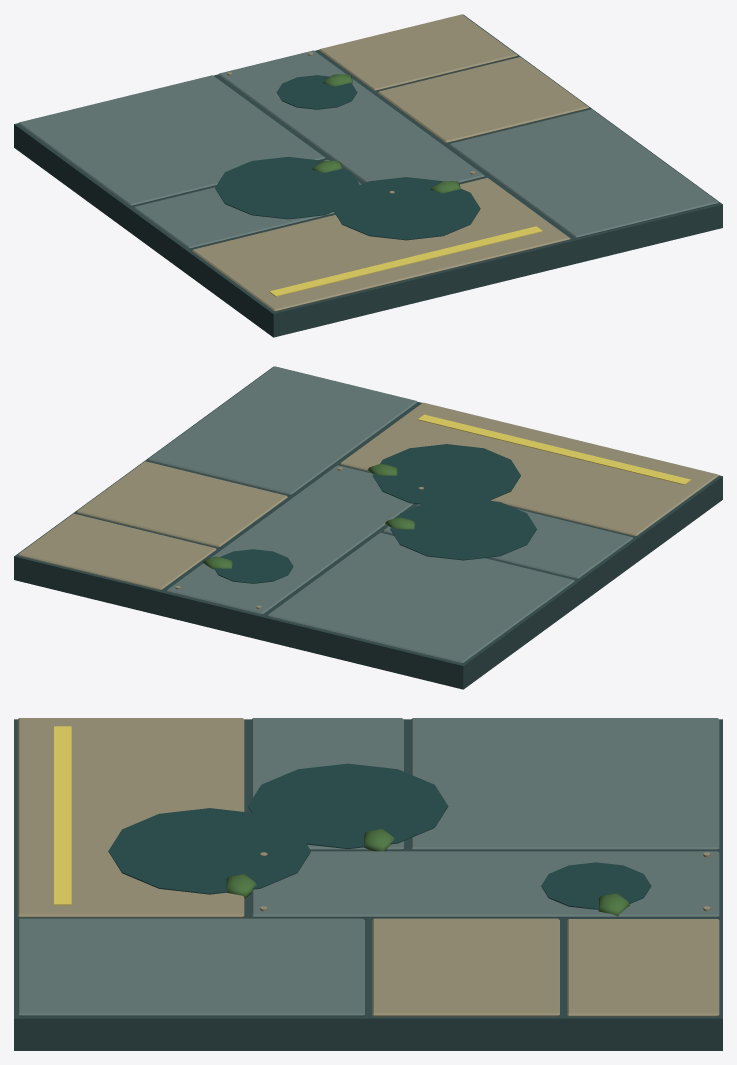
File: floor_dr_plate.glb
3 renders of one model, top to bottom at view 1: azimuth 30°, elevation 25°; view 2: azimuth 150°, elevation 25°; view 3: azimuth 270°, elevation 25°, orthographic. The views are drawn at different scales.
Parts seen in each view (by area): view 1: floor_dr_plate; view 2: floor_dr_plate; view 3: floor_dr_plate.
Part boxes in pixels (x1=…): floor_dr_plate: x1=14, y1=14, x2=722, y2=337; floor_dr_plate: x1=14, y1=366, x2=722, y2=689; floor_dr_plate: x1=14, y1=718, x2=722, y2=1050.
Size of the model in its own units: 4 by 0.27 by 4.
